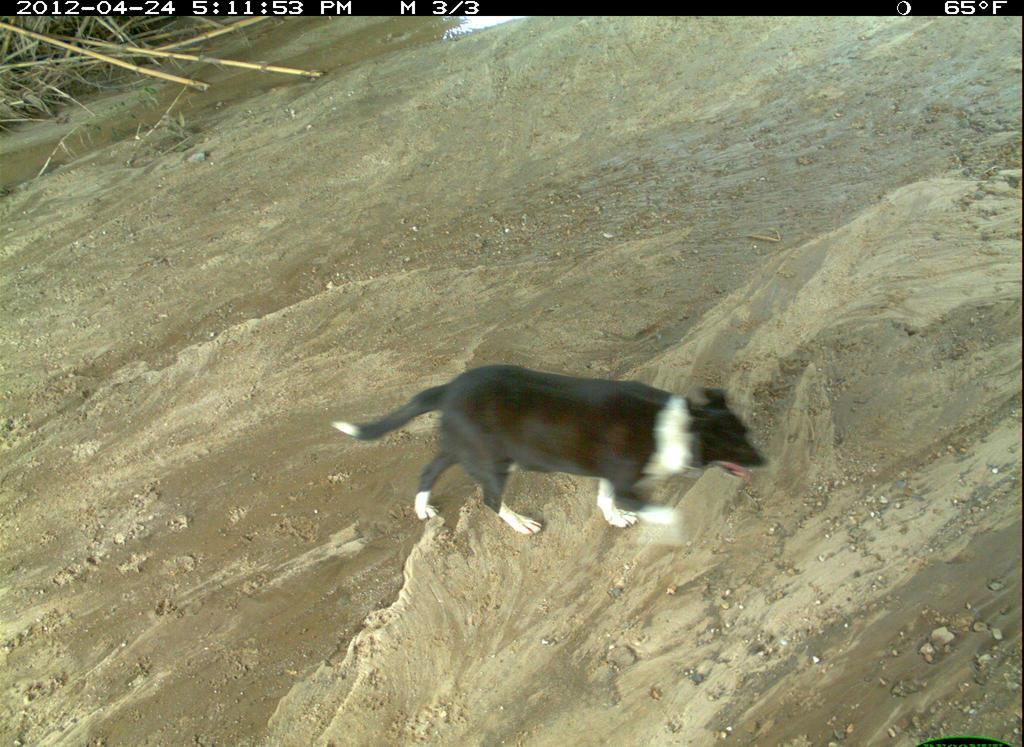dog: (661, 717, 1024, 747)
